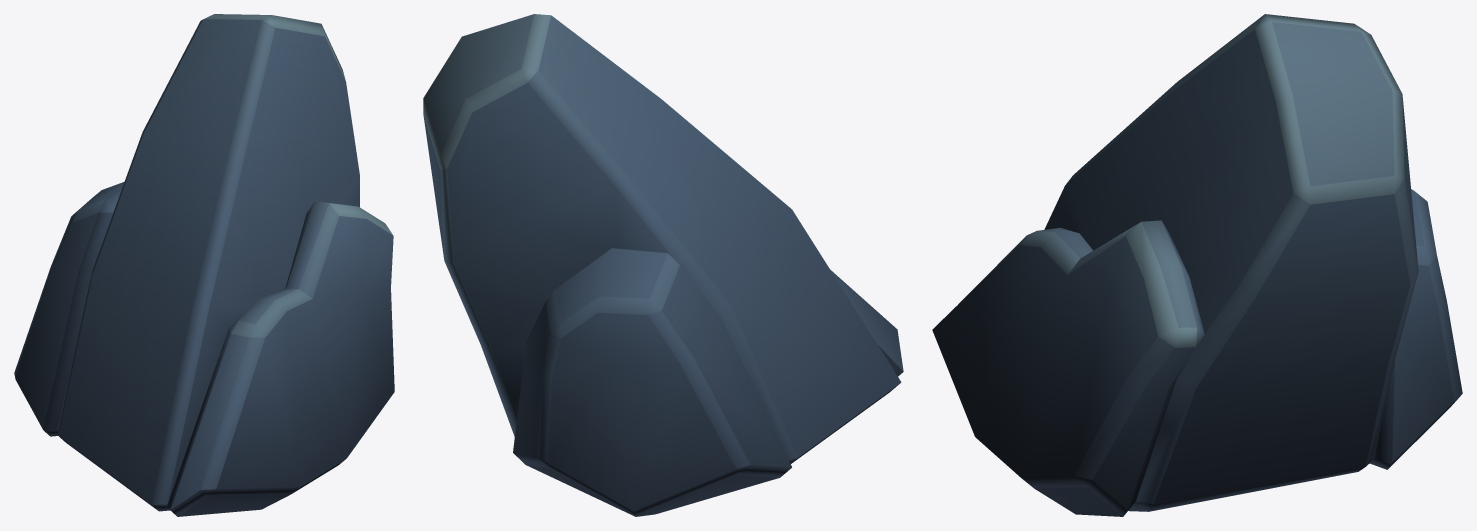
File: rock_013.fbx
The picture shows the model from 3 angles, left to right: view 1: azimuth 30°, elevation 25°; view 2: azimuth 150°, elevation 25°; view 3: azimuth 270°, elevation 25°; orthographic projection. The views are drawn at different scales.
Visible parts, largest first — view 1: rock_013; view 2: rock_013; view 3: rock_013.
Part boxes in pixels (x1,y1,x2,y2): rock_013: [14, 14, 394, 516]; rock_013: [423, 14, 903, 516]; rock_013: [932, 14, 1462, 516].
Bounding box in the file's own units: 262 × 317 × 295.
Materials: 1 (1 with a texture image).
